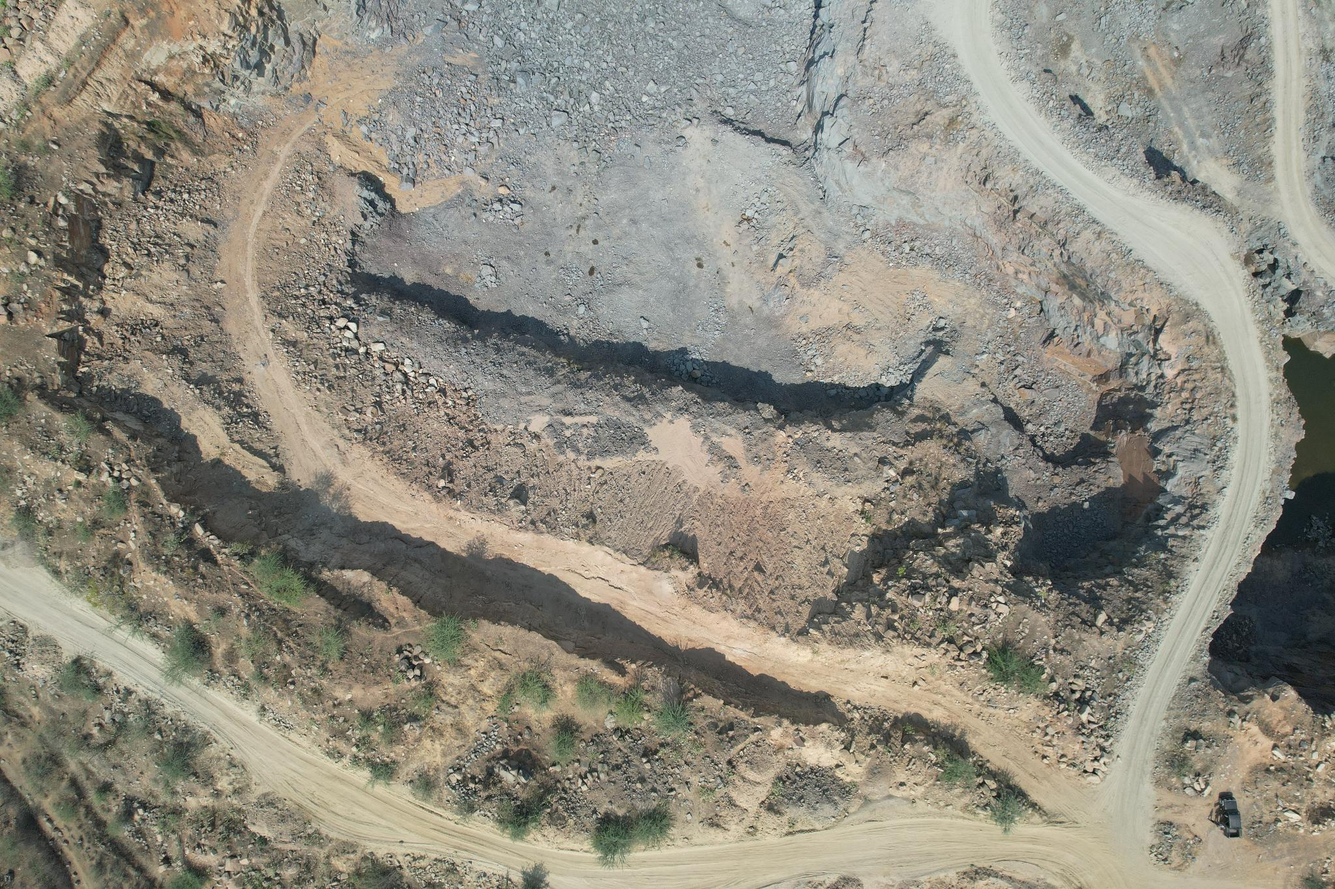benches: (0, 0, 1279, 889), (223, 106, 1092, 817), (1268, 0, 1335, 276)
truck: (1216, 792, 1246, 839)
